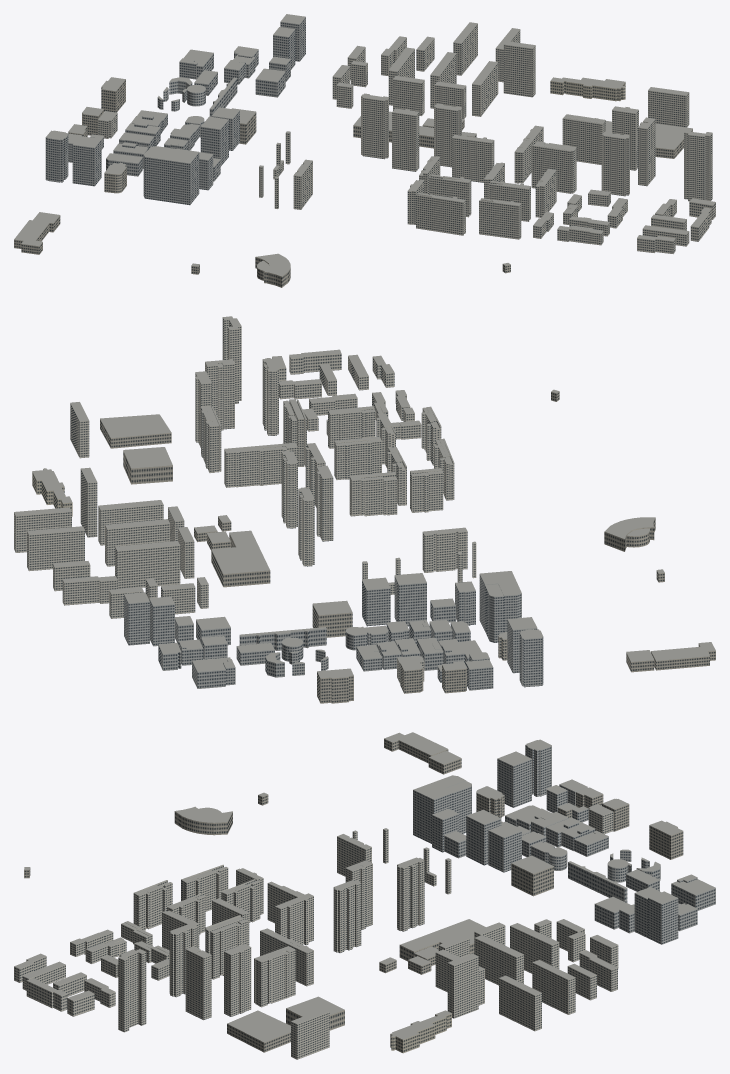
The picture shows the model from 3 angles, top to bottom: view 1: azimuth 30°, elevation 25°; view 2: azimuth 150°, elevation 25°; view 3: azimuth 270°, elevation 25°; orthographic projection. The views are drawn at different scales.
Visible parts, largest first — view 1: ctx-apartments, ctx-roof, ctx-commercial, ctx-other, ctx-school; view 2: ctx-apartments, ctx-roof, ctx-commercial, ctx-other; view 3: ctx-apartments, ctx-roof, ctx-commercial, ctx-other, ctx-school.
Part boxes in pixels (x1=…): ctx-apartments: x1=98, y1=23, x2=715, y2=253; ctx-roof: x1=14, y1=14, x2=715, y2=276; ctx-commercial: x1=45, y1=17, x2=305, y2=205; ctx-other: x1=14, y1=79, x2=692, y2=287; ctx-school: x1=550, y1=81, x2=625, y2=101; ctx-apartments: x1=14, y1=317, x2=476, y2=683; ctx-roof: x1=14, y1=316, x2=715, y2=678; ctx-commercial: x1=124, y1=574, x2=543, y2=690; ctx-other: x1=100, y1=391, x2=715, y2=703; ctx-apartments: x1=14, y1=807, x2=618, y2=1059; ctx-roof: x1=14, y1=732, x2=715, y2=1042; ctx-commercial: x1=413, y1=745, x2=715, y2=944; ctx-other: x1=24, y1=738, x2=683, y2=1052; ctx-school: x1=390, y1=1013, x2=451, y2=1053.
Bounding box in the file's own units: 976 × 115 × 878.
5 materials, 4 textured.
